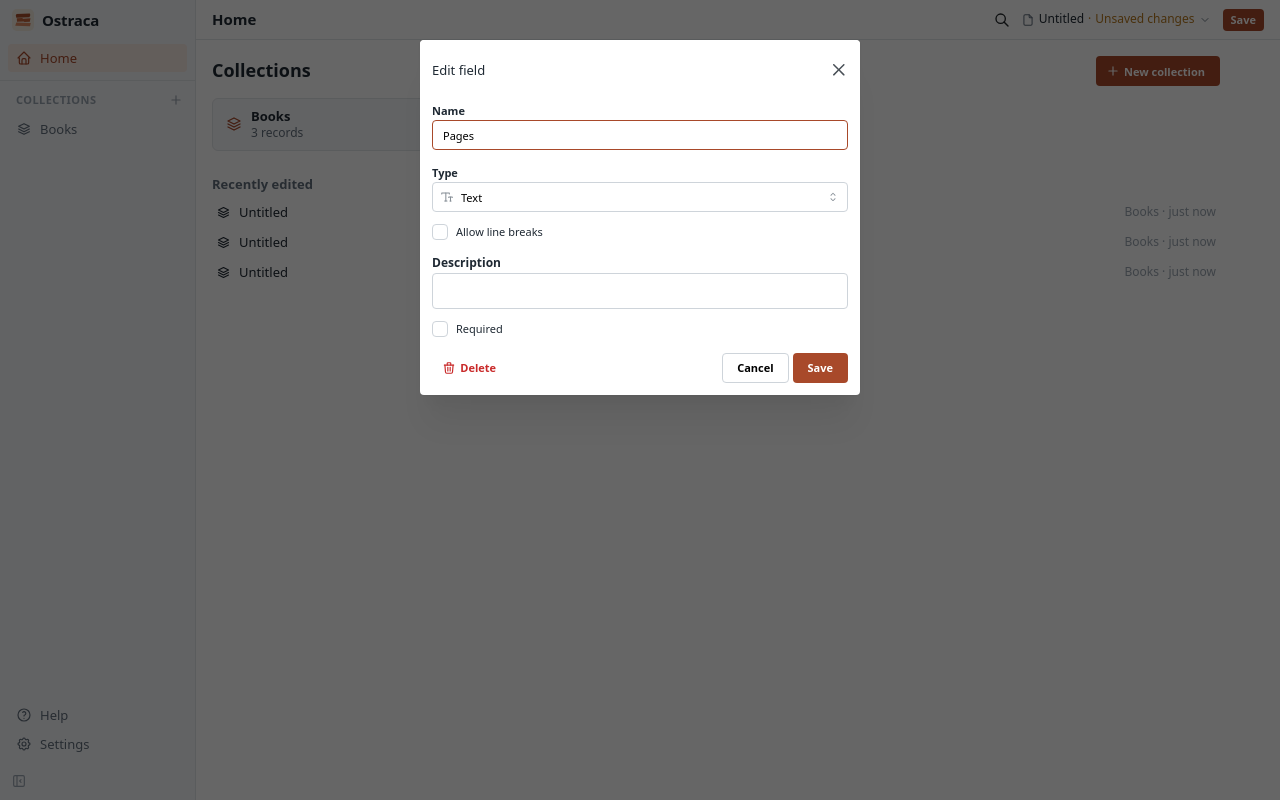
Scenario: field editor › previews a type change and converts the values when saved
Later steps or results of the test are not shown.
Click the dropdown labelled "Type": (640, 197) [432,182,848,212]
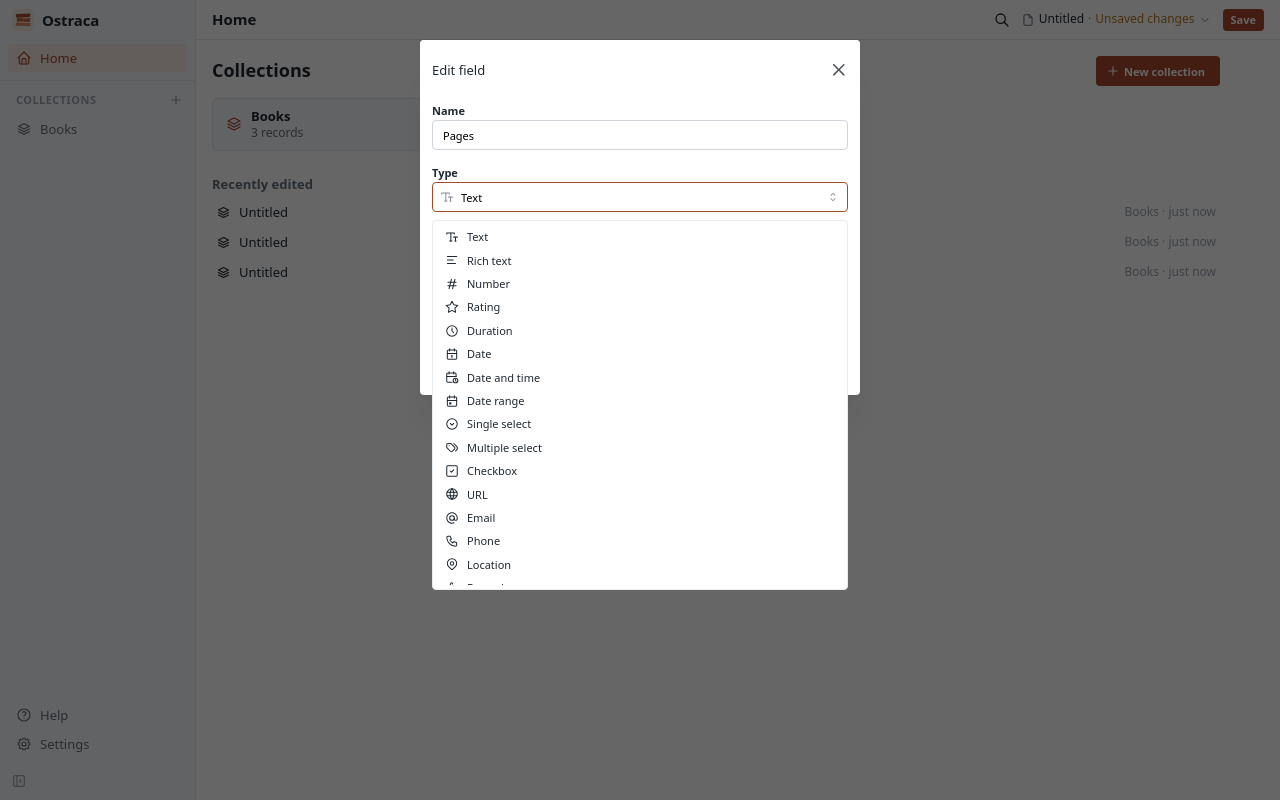
Click the option "Number": (478, 284) [445,276,510,291]
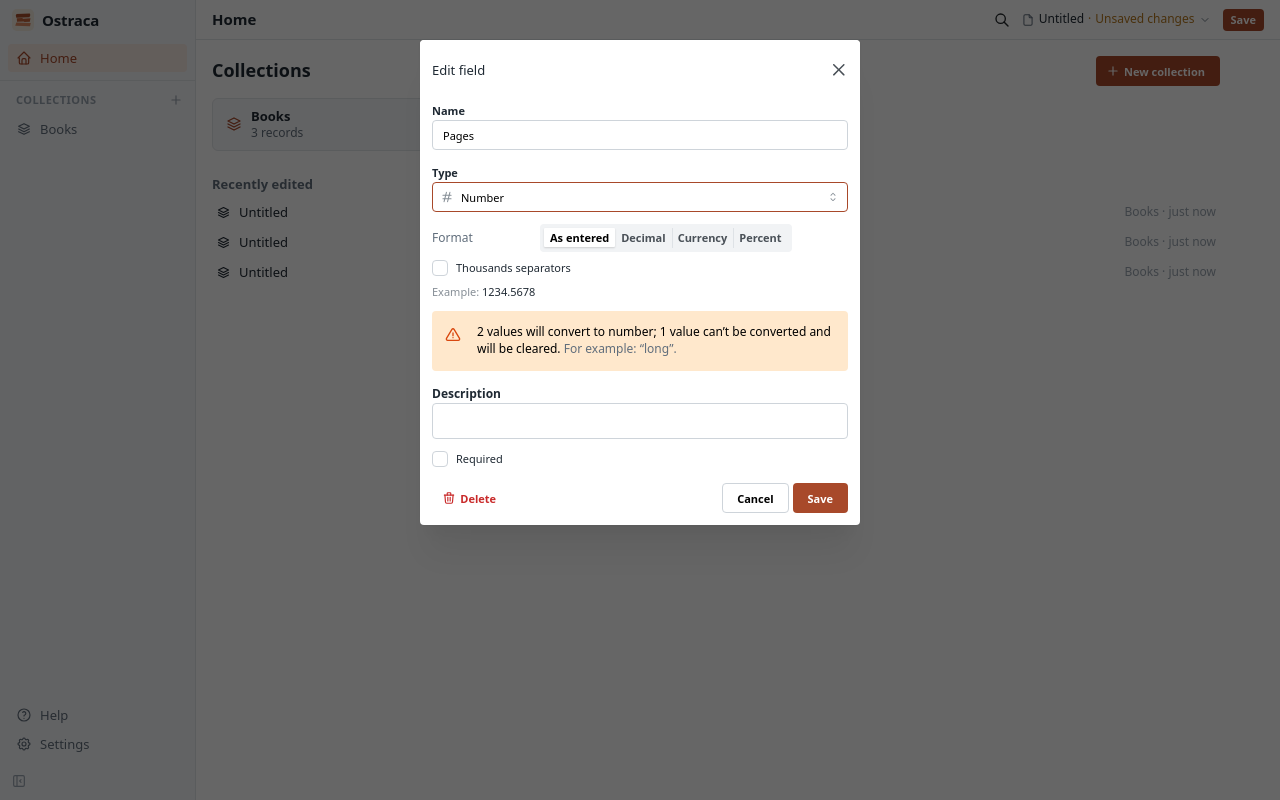
Expected: the text "1 value can’t be converted" is shown, [477,323,831,357]
Expected: the text "For example: “long”." is shown, [561,340,677,357]
